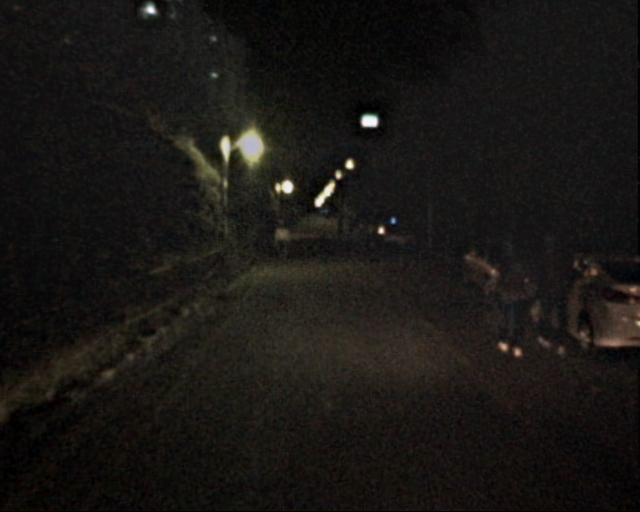person: (530, 231, 582, 354), (486, 238, 538, 358), (273, 219, 292, 264), (363, 218, 378, 254), (338, 221, 358, 242)
